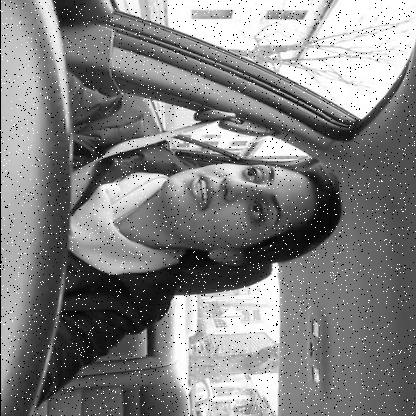seatbelt: (70, 108, 354, 278)
